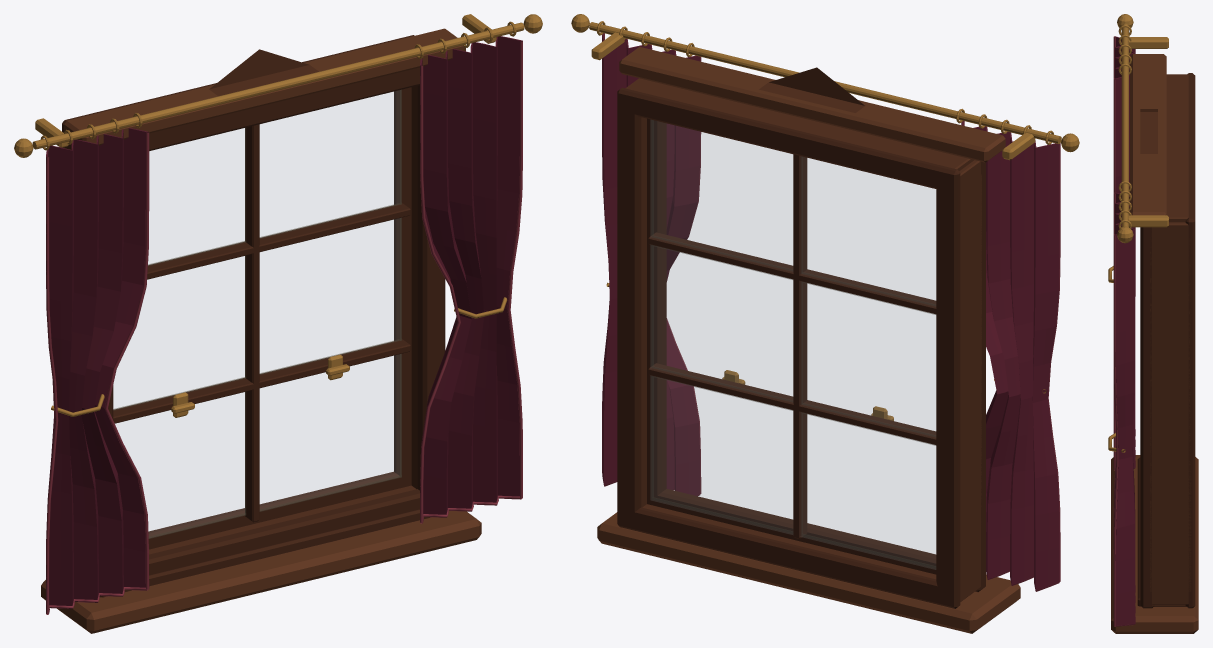
File: BedroomWindowComplete.glb
3 views of the same model, side by side, from view 1: azimuth 30°, elevation 25°; view 2: azimuth 150°, elevation 25°; view 3: azimuth 270°, elevation 25° (orthographic). The views are drawn at different scales.
Visible parts, largest first — view 1: CurtainRight, CurtainLeft, ClearPane_1_1, ClearPane_1_0, ClearPane_1_2, ClearPane_0_1, DeepSill, ClearPane_0_0, ClearPane_0_2, LintelCap, FrameUpright.003, FrameRail (+15 smaller); view 2: CurtainLeft, ClearPane_1_0, ClearPane_1_1, ClearPane_0_0, ClearPane_1_2, ClearPane_0_1, ClearPane_0_2, CurtainRight, LintelCap, FrameUpright.002, FrameUpright.003, DeepSill (+15 smaller); view 3: SideReveal.001, CurtainRight, LintelCap, FrameUpright.001, DeepSill, RevealEnd.001, FrameUpright.003, CurtainRod, CurtainLeft, FrameRail.003, CurtainEdgeBinding.003, SmallGothicCrest (+8 smaller).
Part boxes in pixels (box(x1,y1,x2,y2)): CurtainRight: box(420, 36, 522, 514); CurtainLeft: box(46, 128, 148, 605); ClearPane_1_1: box(260, 219, 399, 372); ClearPane_1_0: box(260, 355, 399, 508); ClearPane_1_2: box(260, 91, 399, 236); ClearPane_0_1: box(114, 256, 244, 408); DeepSill: box(41, 510, 481, 633); ClearPane_0_0: box(115, 392, 244, 535); ClearPane_0_2: box(148, 128, 244, 263); LintelCap: box(64, 28, 465, 145); FrameUpright.003: box(394, 87, 411, 487); FrameRail: box(149, 489, 419, 575); CurtainLeft: box(961, 121, 1059, 590); ClearPane_1_0: box(651, 376, 792, 534); ClearPane_1_1: box(651, 245, 792, 401); ClearPane_0_0: box(801, 413, 935, 569); ClearPane_1_2: box(651, 120, 792, 271); ClearPane_0_1: box(801, 282, 935, 436); ClearPane_0_2: box(801, 157, 935, 306); CurtainRight: box(602, 33, 700, 495); LintelCap: box(619, 46, 1005, 162); FrameUpright.002: box(936, 171, 960, 608); FrameUpright.003: box(617, 93, 641, 530); DeepSill: box(597, 512, 1020, 633); SideReveal.001: box(1150, 222, 1191, 604); CurtainRight: box(1115, 192, 1135, 625); LintelCap: box(1130, 54, 1166, 215); FrameUpright.001: box(1140, 231, 1154, 605); DeepSill: box(1111, 455, 1198, 633); RevealEnd.001: box(1166, 74, 1188, 222); FrameUpright.003: box(1185, 218, 1195, 606); CurtainRod: box(1121, 23, 1128, 227); CurtainLeft: box(1115, 36, 1135, 467); FrameRail.003: box(1185, 73, 1195, 237); CurtainEdgeBinding.003: box(1113, 234, 1118, 625); SmallGothicCrest: box(1140, 109, 1157, 153).
Size of the model in its own units: 6.53 by 6.16 by 1.13.
